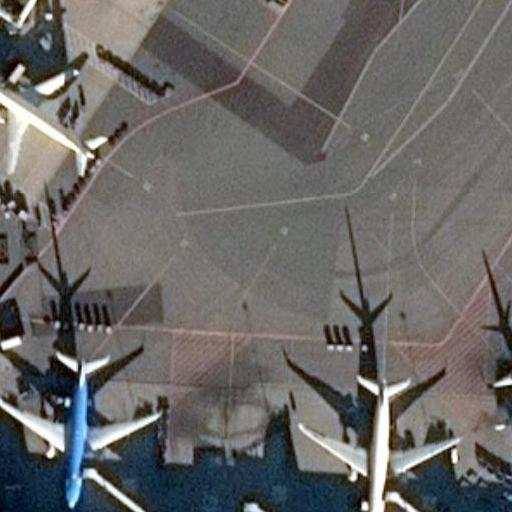Aircraft: (0, 345, 161, 507), (295, 369, 458, 512), (0, 60, 109, 178), (488, 353, 512, 440)
